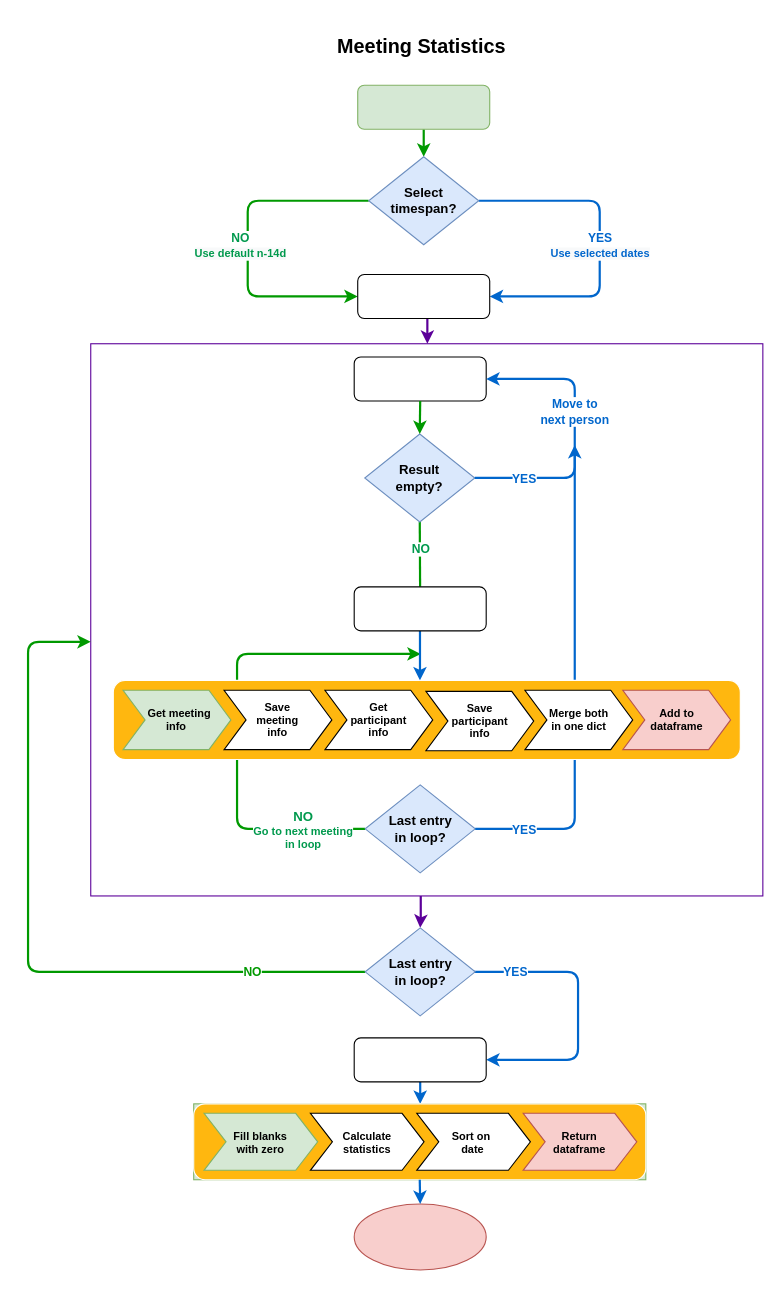
This 782x1289 diagram has some shape labels left out. The box of each missing label's shape, as (x1, y1, x2, y2) in pixels:
Export dataframe to xlsx: (353, 1203, 486, 1270)
Fetch all people in webex site: (357, 84, 490, 129)
List meetings per person: (353, 356, 486, 401)
Loop through meetings: (353, 586, 486, 631)
Loop through people: (357, 273, 490, 318)
Transform dataframe: (353, 1037, 486, 1082)
